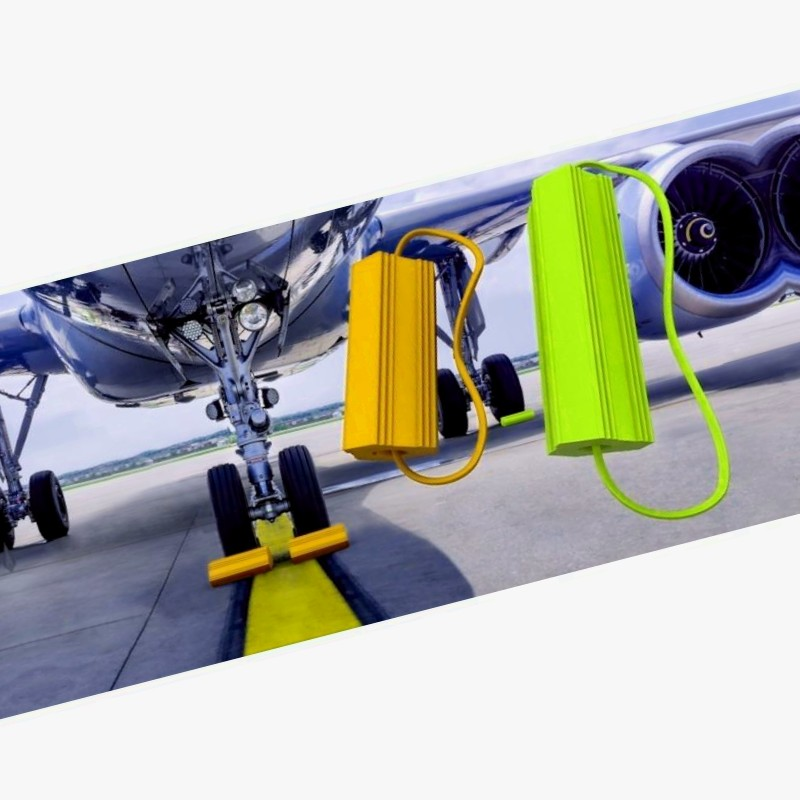chock: (480, 156, 683, 477), (293, 240, 483, 481), (201, 541, 279, 590), (283, 522, 354, 564), (497, 406, 538, 429)
wheel: (201, 460, 259, 558), (274, 441, 332, 537), (21, 465, 75, 543), (475, 348, 527, 424), (422, 363, 473, 439), (0, 480, 20, 550)
